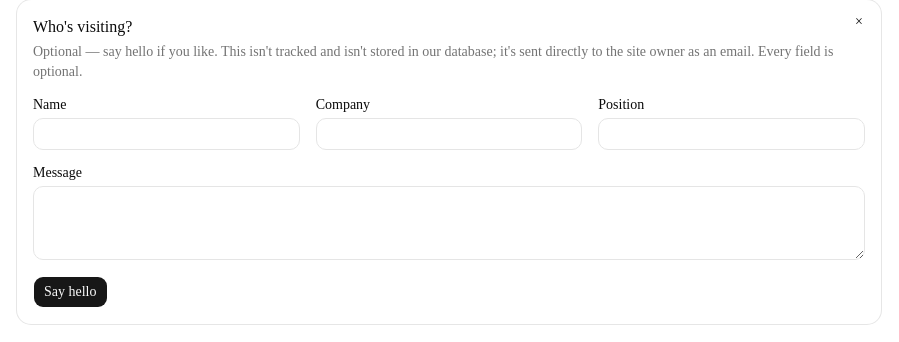
Test: VisitorCard › submits a filled form to /api/contact and shows a success state
The width and height of the screenshot is (899, 342).
In the field labelled "Name": (166,134) [33,118,300,150], type "Ada"
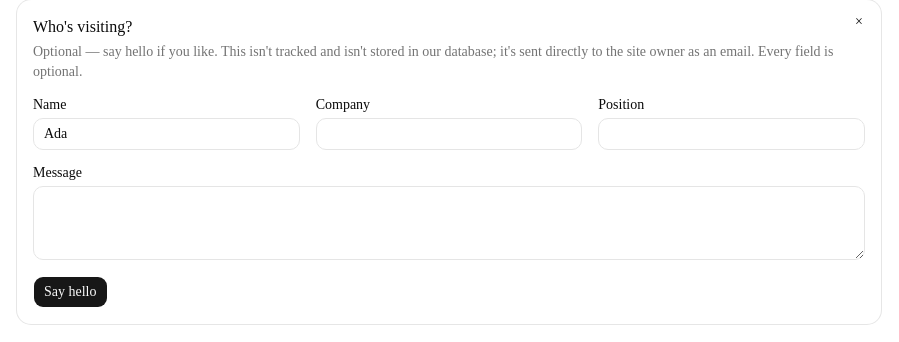
Click the button "Say hello": (70,292) [33,276,108,308]
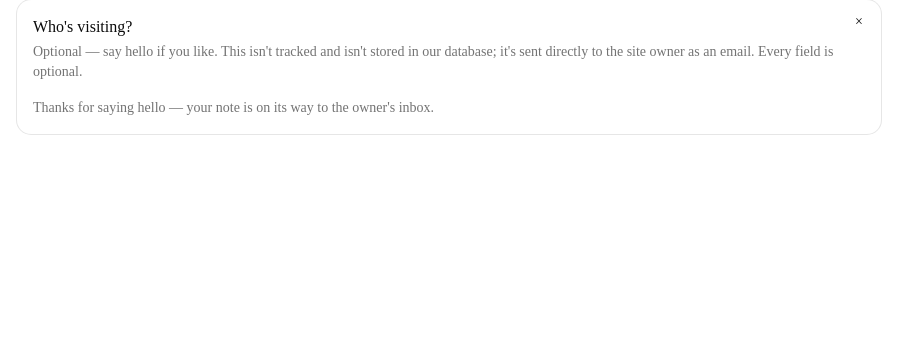
Expected: the text "Thanks for saying hello — your note is on its way to the owner's inbox." is shown, [33,100,434,115]
